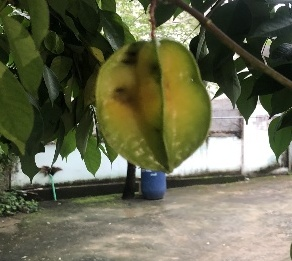Khe: (92, 34, 217, 179)
